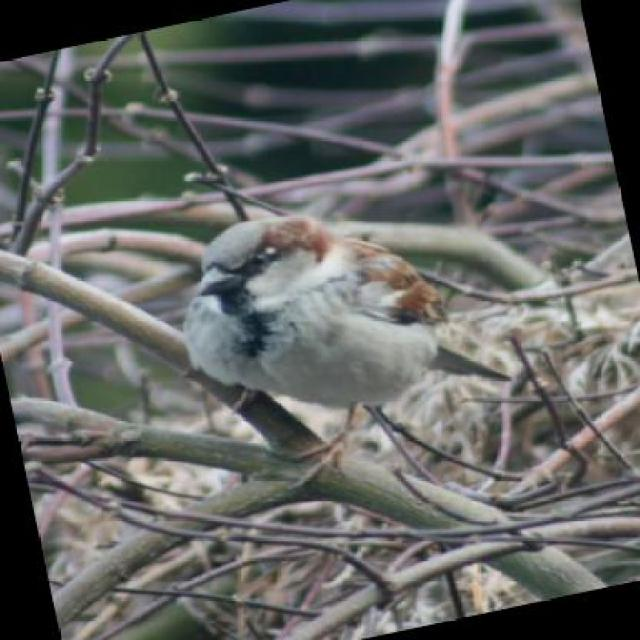sparrow: (160, 171, 522, 477)
